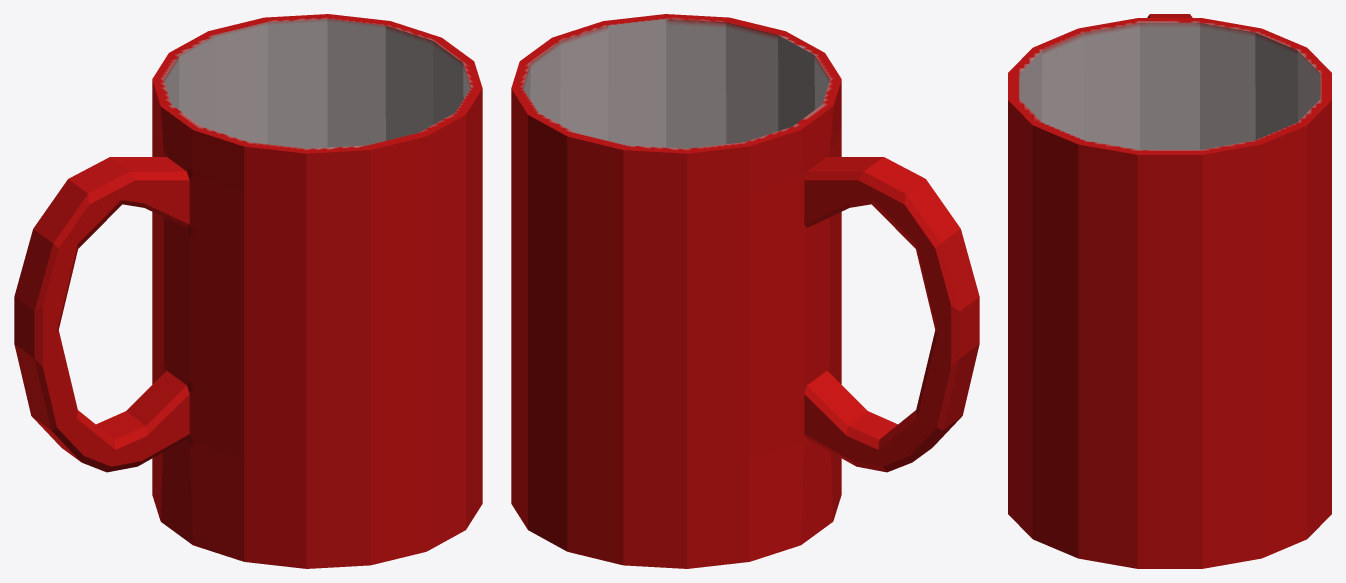
File: Tazza.fbx
3 views of the same model, side by side, from view 1: azimuth 30°, elevation 25°; view 2: azimuth 150°, elevation 25°; view 3: azimuth 270°, elevation 25° (orthographic).
Visible parts, largest first — view 1: Cylinder.001; view 2: Cylinder.001; view 3: Cylinder.001.
Part boxes in pixels (bbox=[...]): Cylinder.001: bbox=[14, 14, 482, 568]; Cylinder.001: bbox=[511, 14, 979, 568]; Cylinder.001: bbox=[1008, 14, 1331, 568].
Size of the model in its own units: 235 by 215 by 153.
